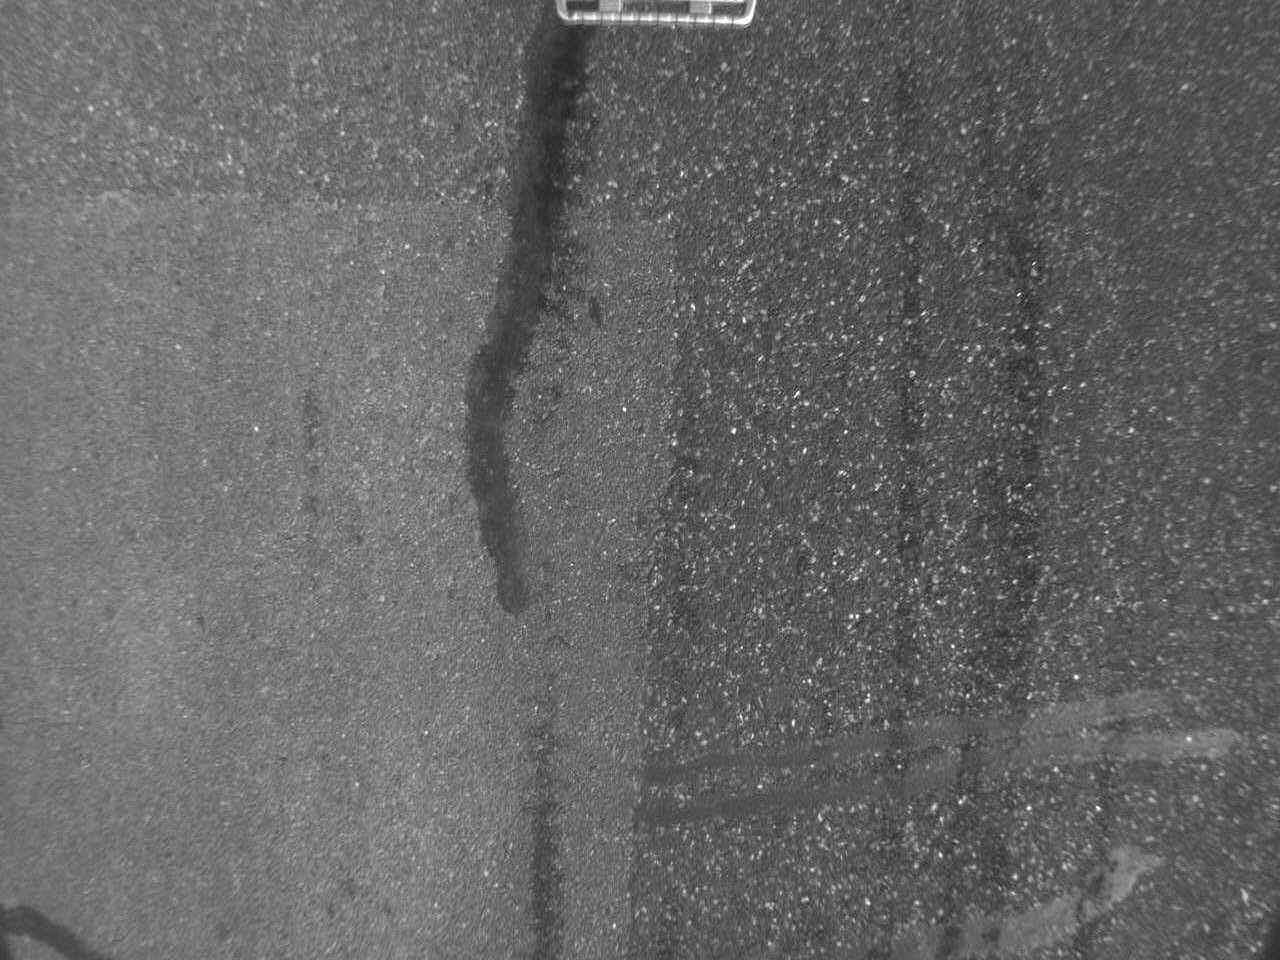sealed: (468, 1, 590, 612)
